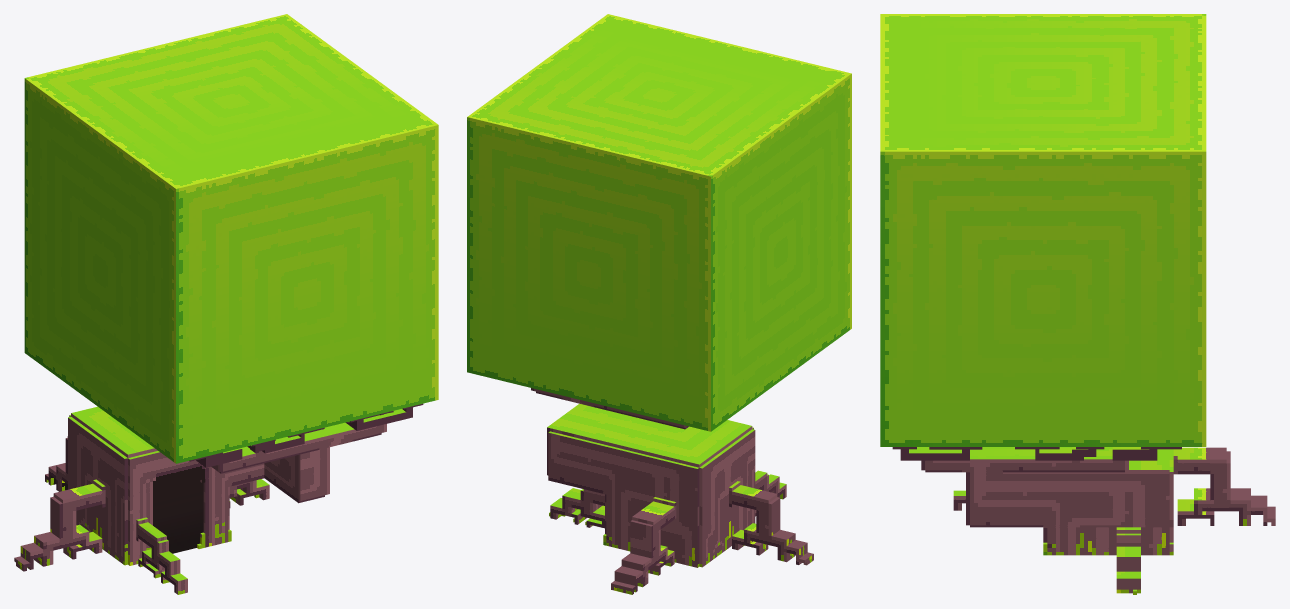
Rendered from giant_treeao.fezao.glb.
3 renders of one model, left to right at view 1: azimuth 30°, elevation 25°; view 2: azimuth 150°, elevation 25°; view 3: azimuth 270°, elevation 25°, orthographic. The views are drawn at different scales.
Visible parts, largest first — view 1: giant_treeAO; view 2: giant_treeAO; view 3: giant_treeAO.
Boxes of the visible parts, x1,y1,x2,y2 form: giant_treeAO: [14, 14, 438, 594]; giant_treeAO: [467, 14, 851, 594]; giant_treeAO: [880, 14, 1275, 594].
Size of the model in its own units: 6.06 by 8 by 6.06.
Materials: 1 (1 with a texture image).
